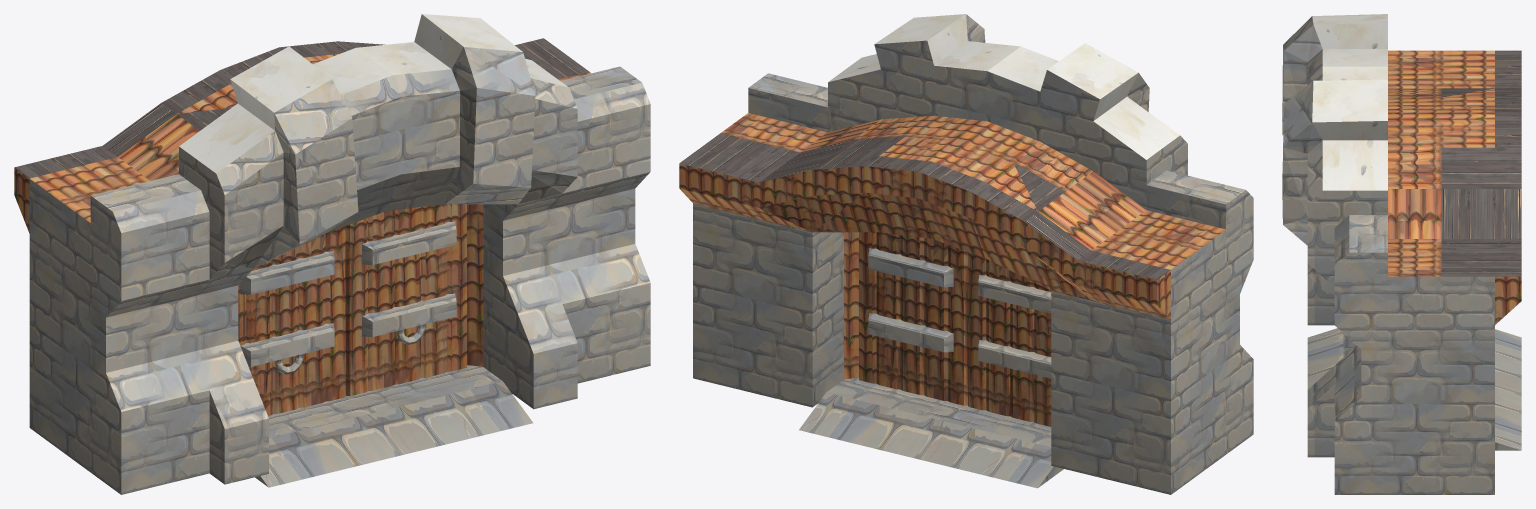
The model's file is wall_straight_gate.gltf.
The picture shows the model from 3 angles, left to right: view 1: azimuth 30°, elevation 25°; view 2: azimuth 150°, elevation 25°; view 3: azimuth 270°, elevation 25°; orthographic projection. The views are drawn at different scales.
Visible parts, largest first — view 1: wall_straight_gate, wall_straight_gate_door_left, wall_straight_gate_door_right; view 2: wall_straight_gate, wall_straight_gate_door_left, wall_straight_gate_door_right; view 3: wall_straight_gate.
Part boxes in pixels (x1=…): wall_straight_gate: x1=14, y1=14, x2=650, y2=494; wall_straight_gate_door_left: x1=346, y1=204, x2=466, y2=396; wall_straight_gate_door_right: x1=238, y1=226, x2=346, y2=416; wall_straight_gate: x1=679, y1=14, x2=1253, y2=494; wall_straight_gate_door_left: x1=859, y1=232, x2=967, y2=405; wall_straight_gate_door_right: x1=968, y1=252, x2=1051, y2=426; wall_straight_gate: x1=1282, y1=14, x2=1521, y2=494.
Bounding box in the file's own units: 2 × 1.41 × 0.8956.
4 materials, 4 textured.
